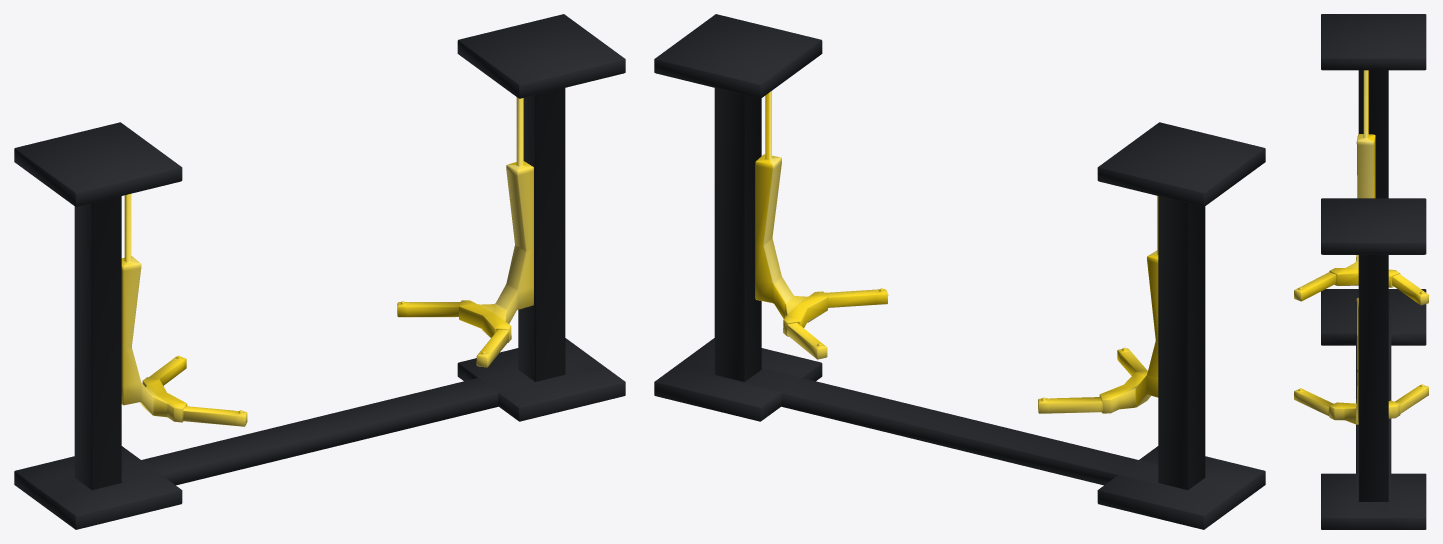
The model's file is Lift.fbx.
3 views of the same model, side by side, from view 1: azimuth 30°, elevation 25°; view 2: azimuth 150°, elevation 25°; view 3: azimuth 270°, elevation 25° (orthographic). The views are drawn at different scales.
Parts seen in each view (by area): view 1: Cube.001, Cube.004, Cube.003; view 2: Cube.001, Cube.004, Cube.003; view 3: Cube.001, Cube.003, Cube.004.
Boxes of the visible parts, x1,y1,x2,y2 form: Cube.001: (14,14,625,529); Cube.004: (397,97,533,367); Cube.003: (121,194,247,426); Cube.001: (654,14,1265,529); Cube.004: (755,91,888,359); Cube.003: (1038,196,1158,413); Cube.001: (1321,14,1426,529); Cube.003: (1294,70,1428,305); Cube.004: (1294,297,1428,424).
Size of the model in its own units: 1538 by 901 by 382.
Materials: 1 (1 with a texture image).
